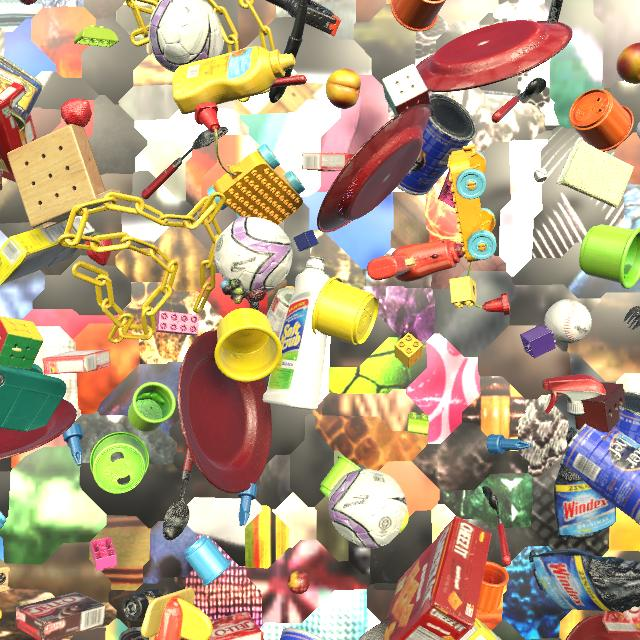ycb_002_master_chef_can: (397, 94, 477, 196), (560, 424, 640, 525), (614, 390, 640, 444), (280, 627, 324, 640)
ycb_003_cracker_box: (383, 516, 492, 640), (0, 82, 37, 182)
ycb_004_sugar_box: (0, 216, 95, 285), (460, 617, 501, 640)
ycb_005_tomato_soup_can: (266, 288, 294, 338), (119, 627, 149, 640)
ycb_006_mustard_bottle: (172, 46, 295, 114)
ycb_008_pudding_box: (15, 592, 106, 640), (0, 169, 3, 190)
ycb_009_gelatin_box: (43, 349, 111, 375), (208, 612, 263, 640), (602, 606, 640, 634), (302, 153, 355, 172)
ycb_010_potted_meat_can: (0, 55, 42, 132)
ycb_012_strawberry: (85, 233, 113, 266), (61, 99, 92, 127), (19, 0, 37, 5)
ycb_015_peach: (325, 69, 361, 109), (616, 42, 640, 84)
